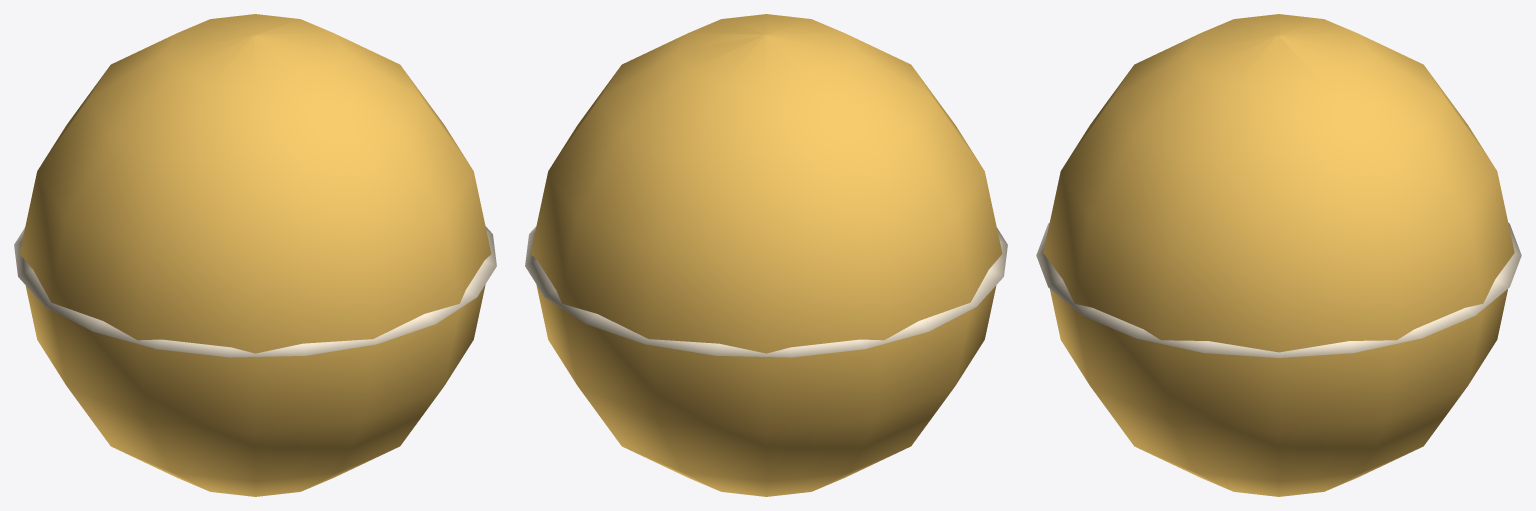
Rendered from dog_toy_ball.glb.
3 views of the same model, side by side, from view 1: azimuth 30°, elevation 25°; view 2: azimuth 150°, elevation 25°; view 3: azimuth 270°, elevation 25° (orthographic).
Visible parts, largest first — view 1: model; view 2: model; view 3: model.
Boxes of the visible parts, x1,y1,x2,y2 form: model: [14, 14, 496, 496]; model: [525, 14, 1007, 496]; model: [1036, 14, 1521, 496].
Bounding box in the file's own units: 0.25 × 0.25 × 0.25.
